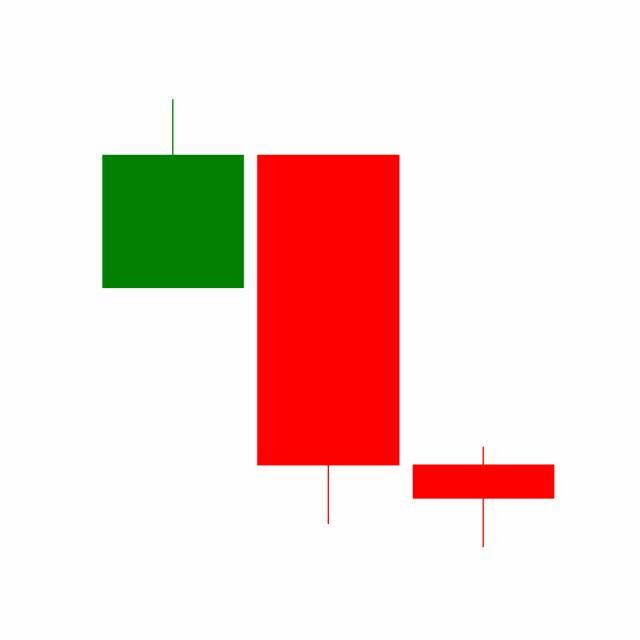Hammer: (406, 447, 562, 550)
